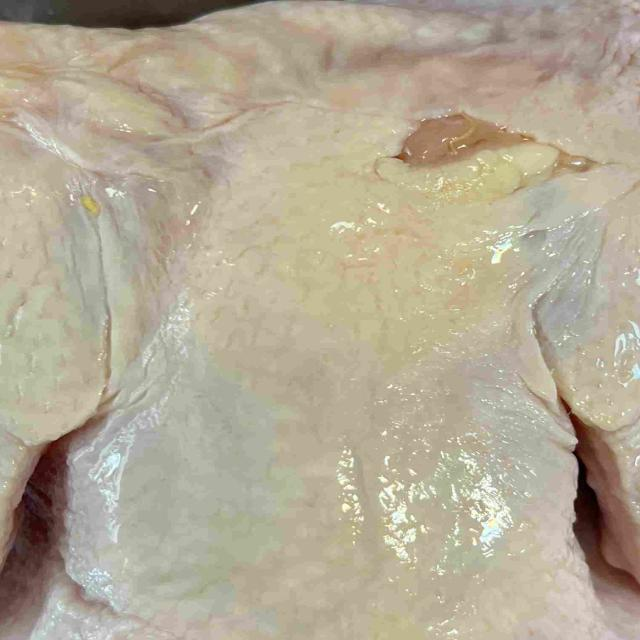back: (34, 118, 637, 640)
wing: (0, 31, 123, 561), (544, 143, 640, 588)
